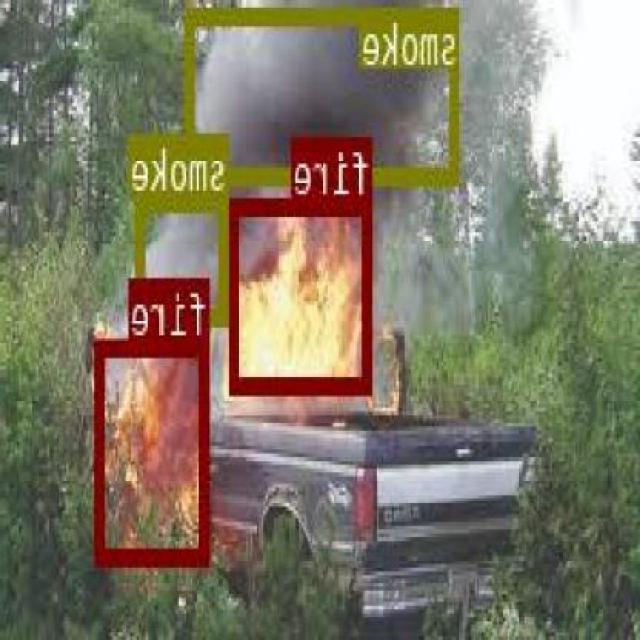Fire: (232, 195, 374, 392), (97, 338, 211, 562)
Smoke: (188, 5, 460, 184), (138, 193, 231, 324)
